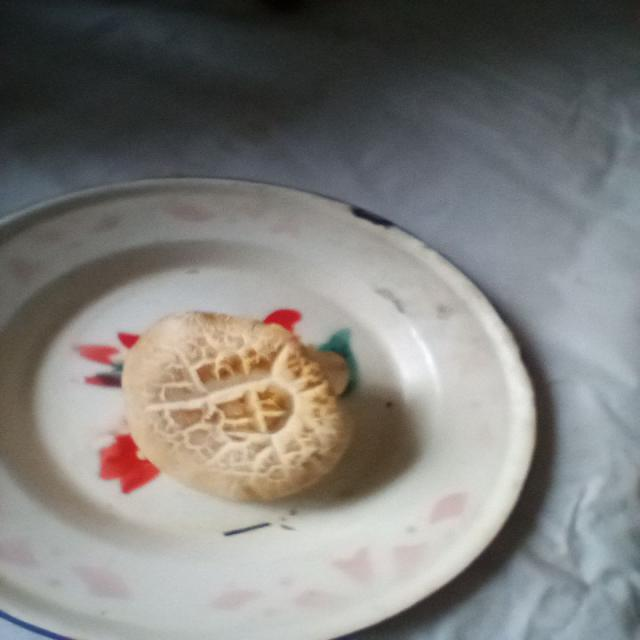Pleurotus cystidiosus: (120, 307, 350, 496)
